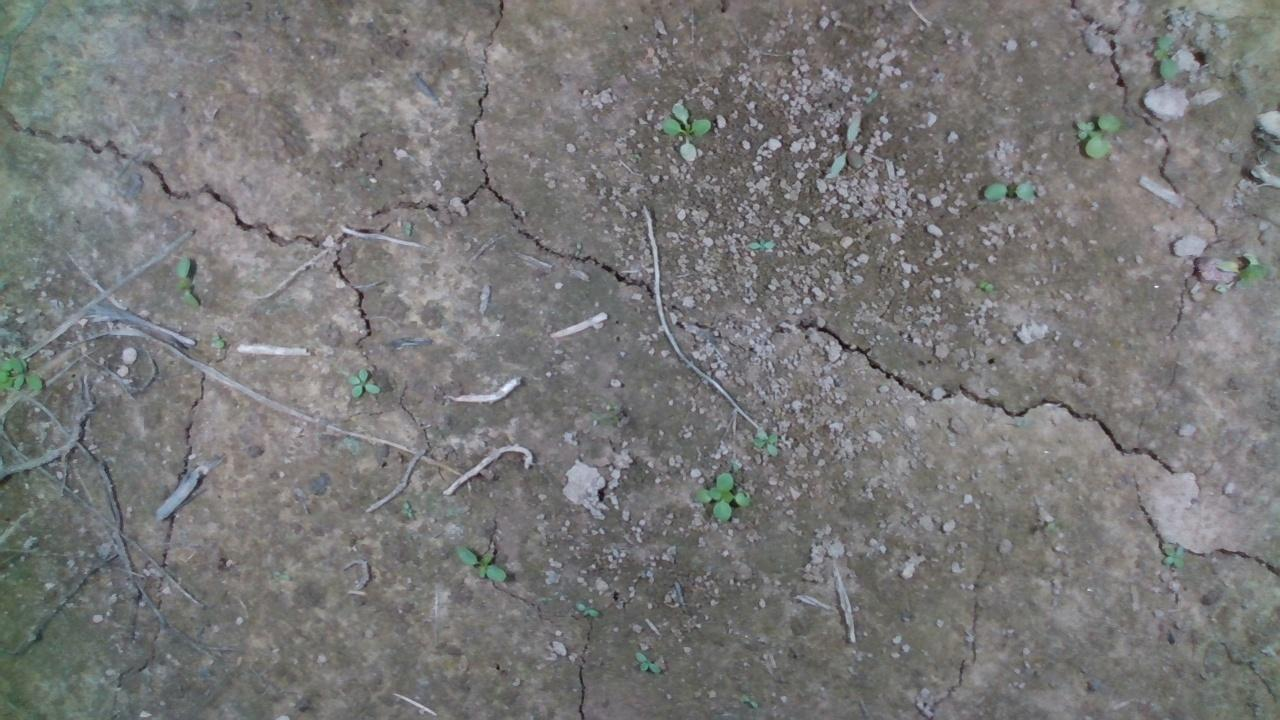weed: (701, 466, 749, 526), (453, 539, 509, 584), (1074, 106, 1115, 163), (171, 255, 210, 303), (978, 171, 1029, 204), (663, 103, 703, 143), (343, 364, 385, 400), (745, 425, 788, 459), (631, 647, 673, 680), (573, 600, 599, 621)
